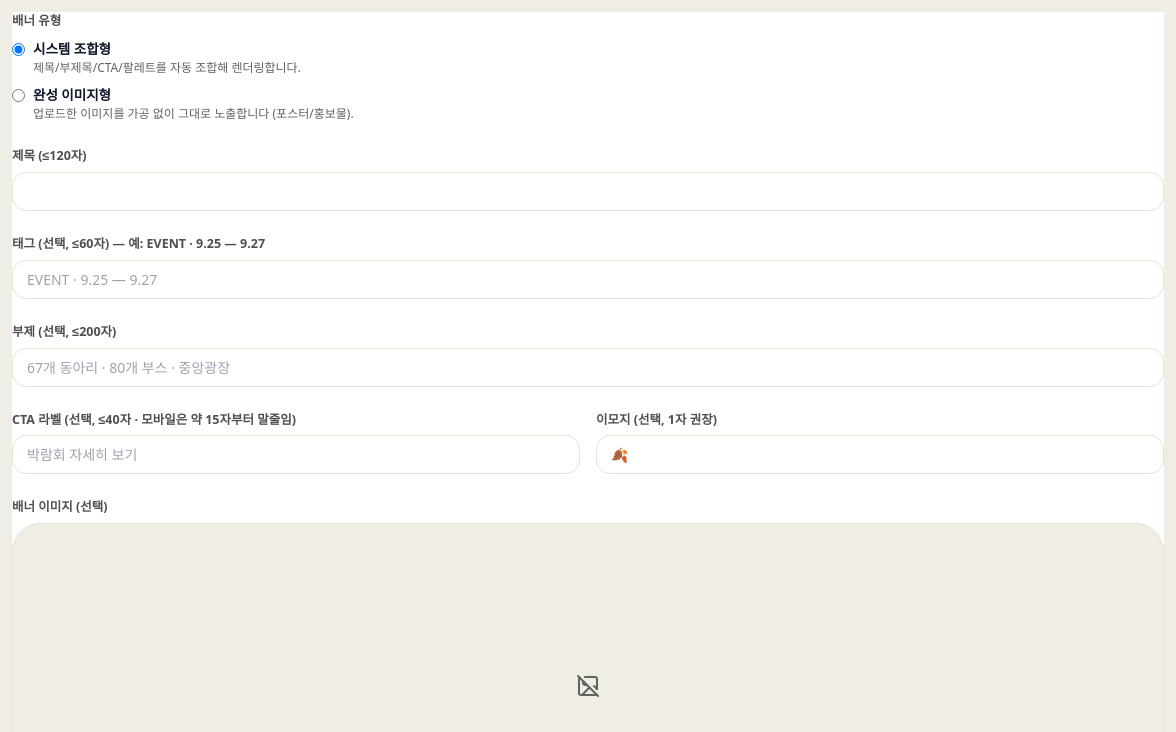
Test: AdminPromotionForm — renderMode UI › FULL_BLEED 라디오를 선택하면 이미지/Alt Text 가드가 노출된다
Click the radio button labelled "완성 이미지형 업로드한 이미지를 가공 없이 그대로 노출합니다 (포스터/홍보물).".
click(18, 96)  # box [12, 89, 25, 102]
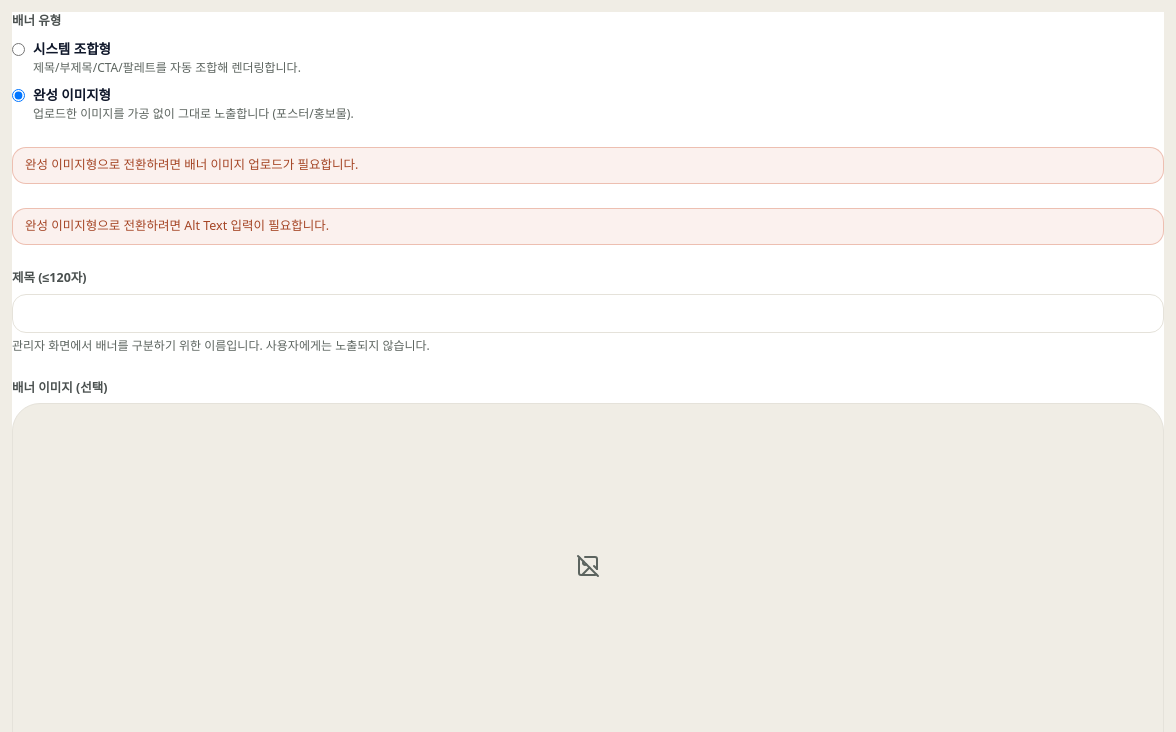
Expected: the text "완성 이미지형으로 전환하려면 배너 이미지 업로드가 필요합니다." is shown, [12, 147, 1164, 184]
Expected: the text "완성 이미지형으로 전환하려면 Alt Text 입력이 필요합니다." is shown, [12, 208, 1164, 245]
